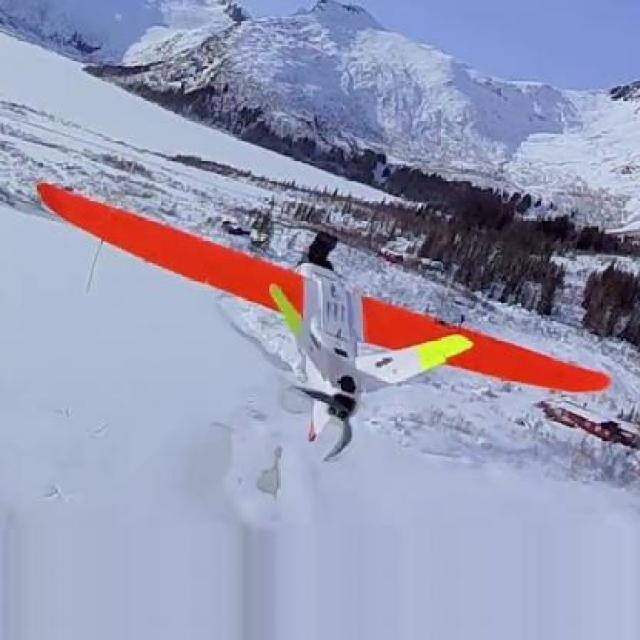iha: (28, 170, 619, 461)
